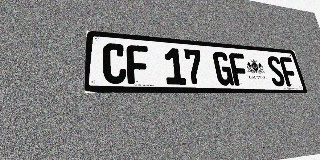1: (163, 47, 186, 85)
7: (183, 49, 205, 85)
C: (103, 43, 127, 84)
F: (126, 44, 150, 84), (228, 53, 250, 86), (279, 57, 299, 87)
G: (212, 51, 234, 86)
S: (265, 56, 287, 86)
